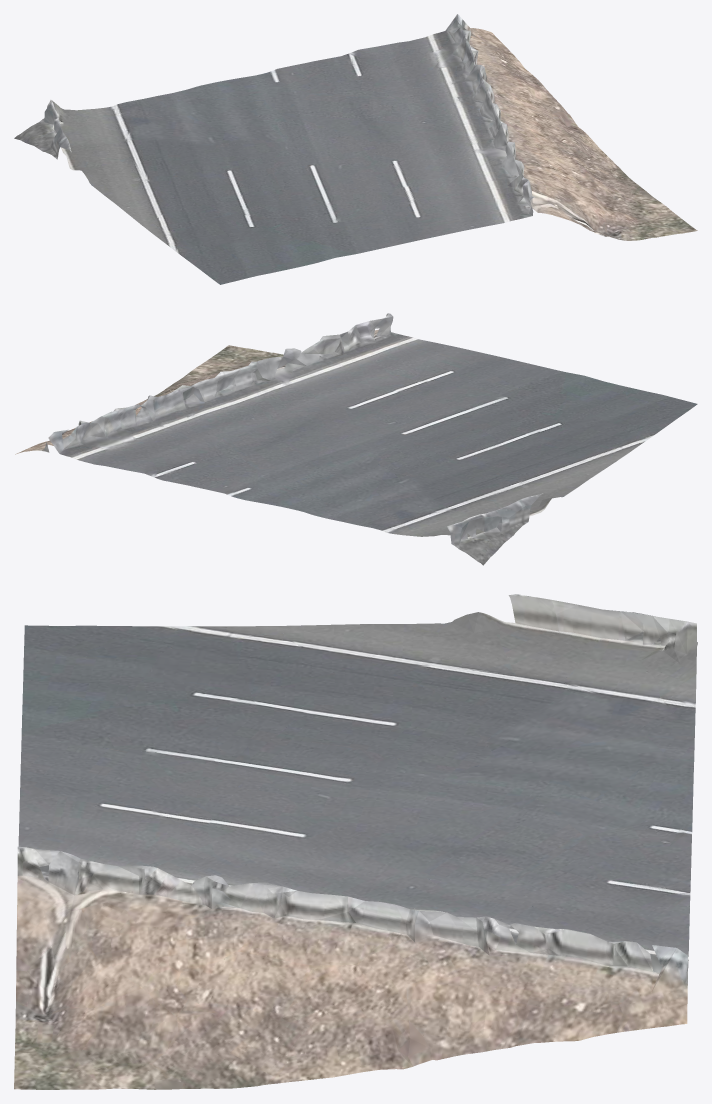
Rendered from Tile_+009_+005_L20_0uuuu33.glb.
3 views of the same model, one above another, from view 1: azimuth 30°, elevation 25°; view 2: azimuth 150°, elevation 25°; view 3: azimuth 270°, elevation 25° (orthographic). The views are drawn at different scales.
Parts seen in each view (by area): view 1: rtc; view 2: rtc; view 3: rtc.
Part boxes in pixels (box(x1,y1,x2,y2)): rtc: box(14, 14, 697, 284); rtc: box(15, 313, 697, 565); rtc: box(14, 594, 697, 1089).
Size of the model in its own units: 24.63 by 4.01 by 19.09.
1 material, 1 textured.
